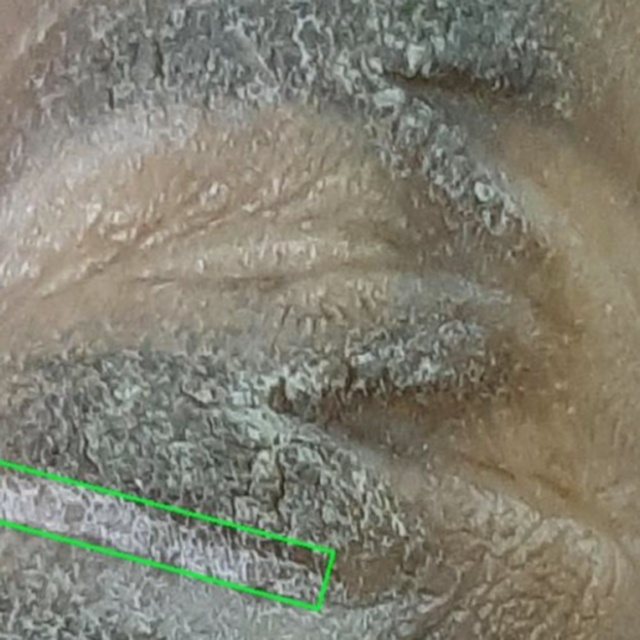Contact Dermatitis: (0, 459, 334, 609)
